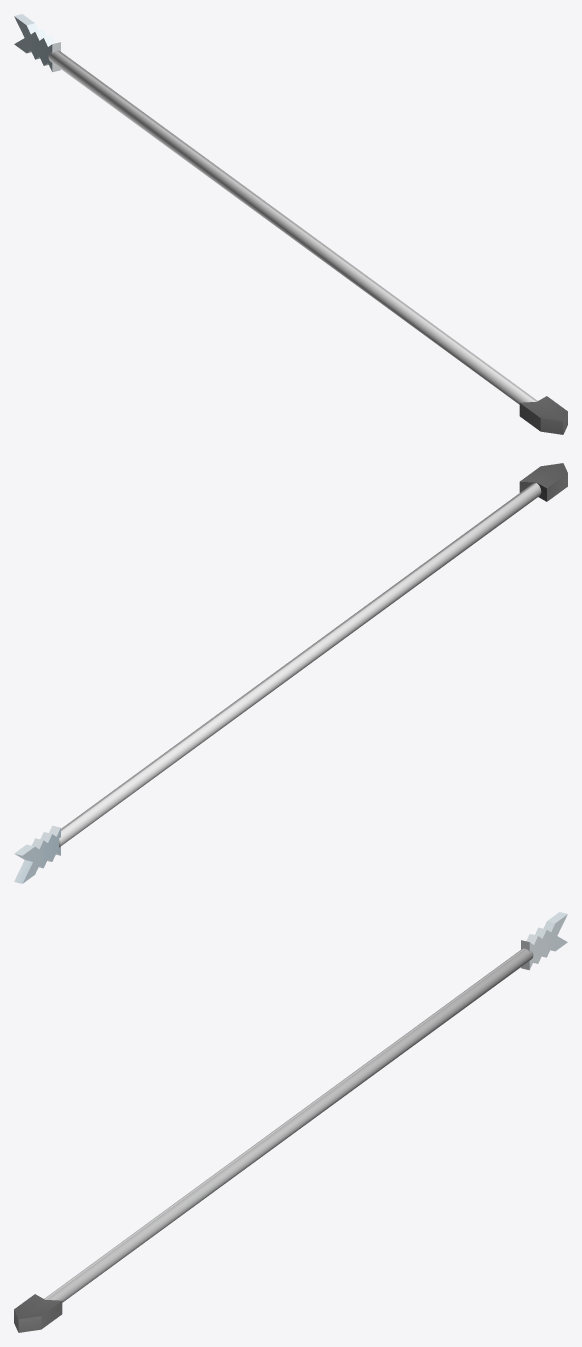
File: panah.fbx
3 renders of one model, top to bottom at view 1: azimuth 30°, elevation 25°; view 2: azimuth 150°, elevation 25°; view 3: azimuth 330°, elevation 25°, orthographic.
Parts seen in each view (by area): view 1: Cube.001; view 2: Cube.001; view 3: Cube.001.
Part boxes in pixels (<box>): Cube.001: <box>14,14,567,434</box>; Cube.001: <box>14,463,567,883</box>; Cube.001: <box>14,912,567,1332</box>.
Bounding box in the file's own units: 26.72 × 26.28 × 921.
